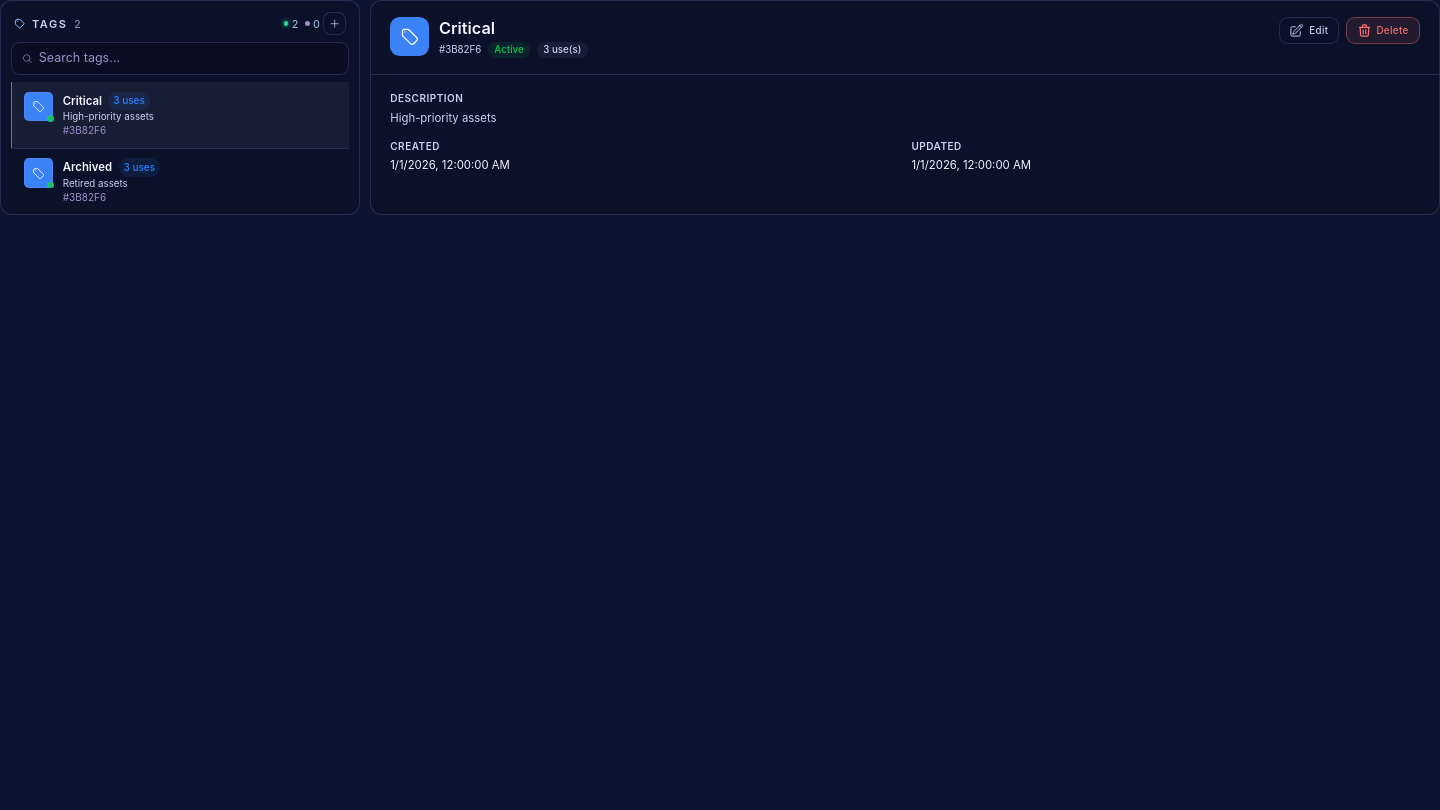
Test: deleting a tag › asks for confirmation and sends nothing until it is given
This screenshot has width=1440, height=810.
Click the button "Delete": (1383, 31) [1346,17,1420,44]
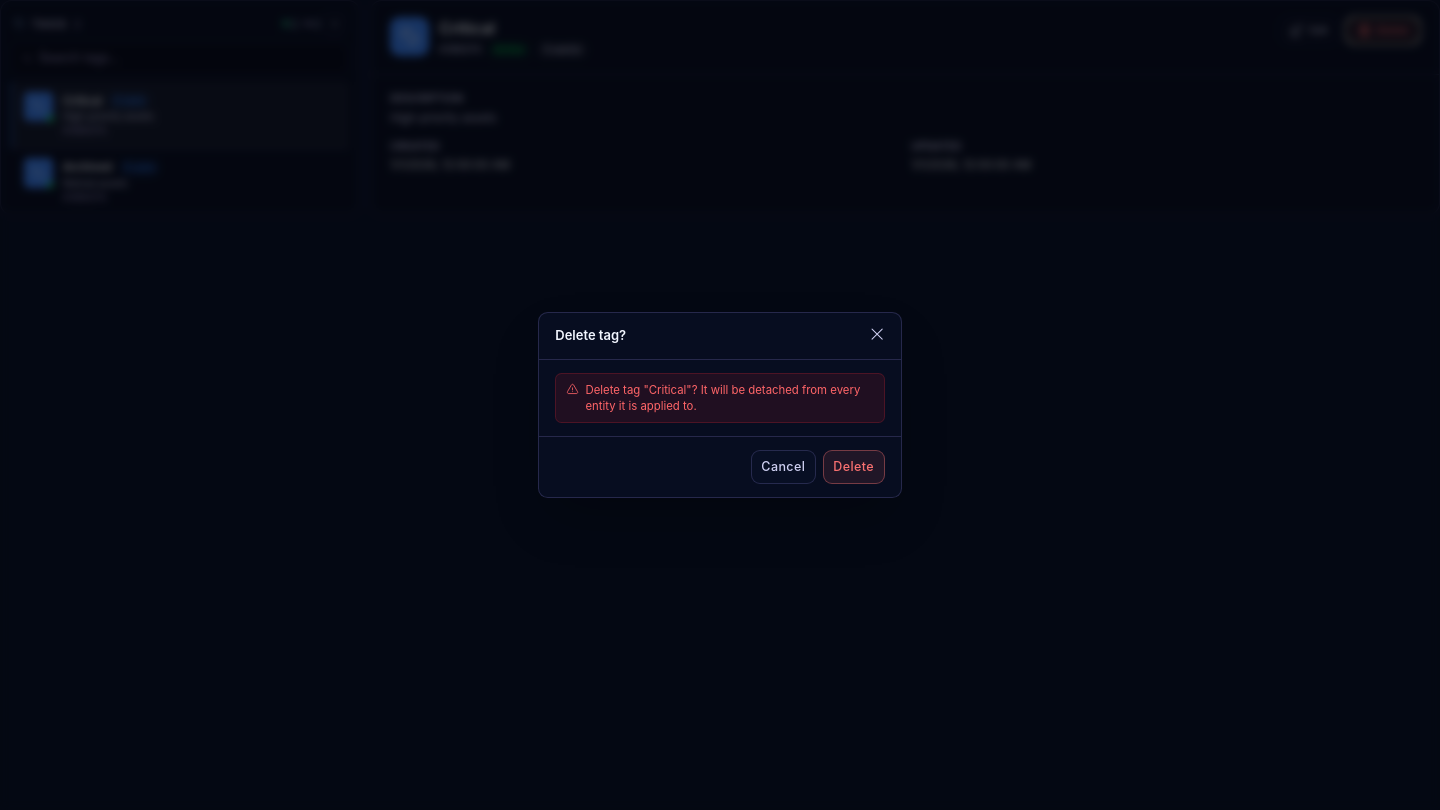
Now the text "detached from every entity" is shown, box [586,383,860,413]
